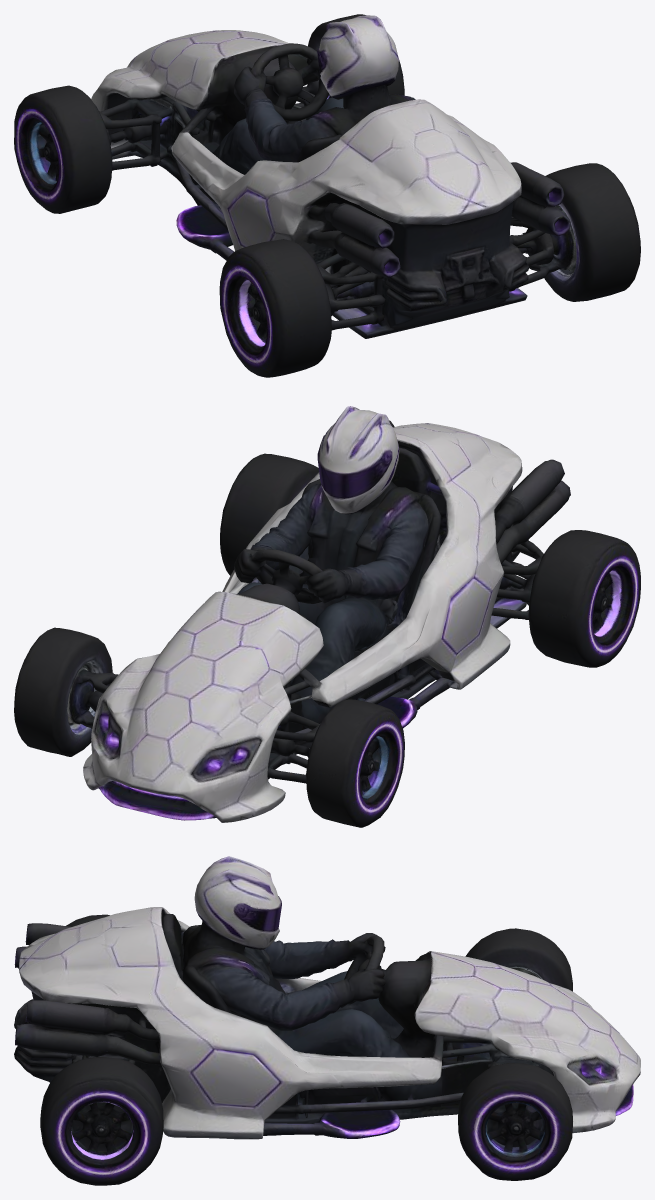
File: ledger-final.glb
3 views of the same model, one above another, from view 1: azimuth 30°, elevation 25°; view 2: azimuth 150°, elevation 25°; view 3: azimuth 270°, elevation 25° (orthographic). The views are drawn at different scales.
Parts seen in each view (by area): view 1: chassis, wheel-rl, wheel-fl, wheel-rr, wheel-fr; view 2: chassis, wheel-rl, wheel-fl, wheel-fr, wheel-rr; view 3: chassis, wheel-rr, wheel-fr, wheel-fl.
Boxes of the visible parts, x1,y1,x2,y2 form: chassis: (91,15,570,338); wheel-rl: (219,239,331,377); wheel-fl: (14,85,112,213); wheel-rr: (544,163,640,301); wheel-fr: (308,14,404,98); chassis: (83,406,570,822); wheel-rl: (528,530,640,667); wheel-fl: (306,699,404,827); wheel-fr: (14,627,112,756); wheel-rr: (220,453,318,575); chassis: (14,856,640,1139); wheel-rr: (40,1057,163,1185); wheel-fr: (458,1063,572,1180); wheel-fl: (465,928,572,991).
Bounding box in the file's own units: 2.84 × 1.94 × 4.5.
Materials: 1 (1 with a texture image).
